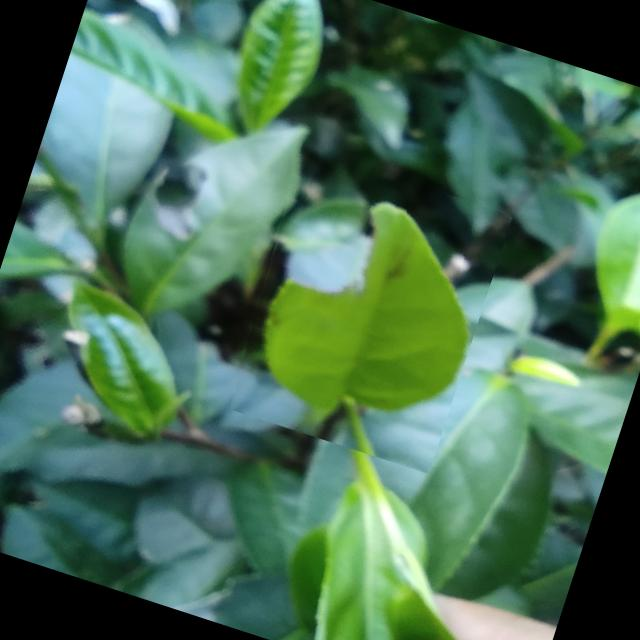Category C(4-7 days): (218, 142, 515, 474)
